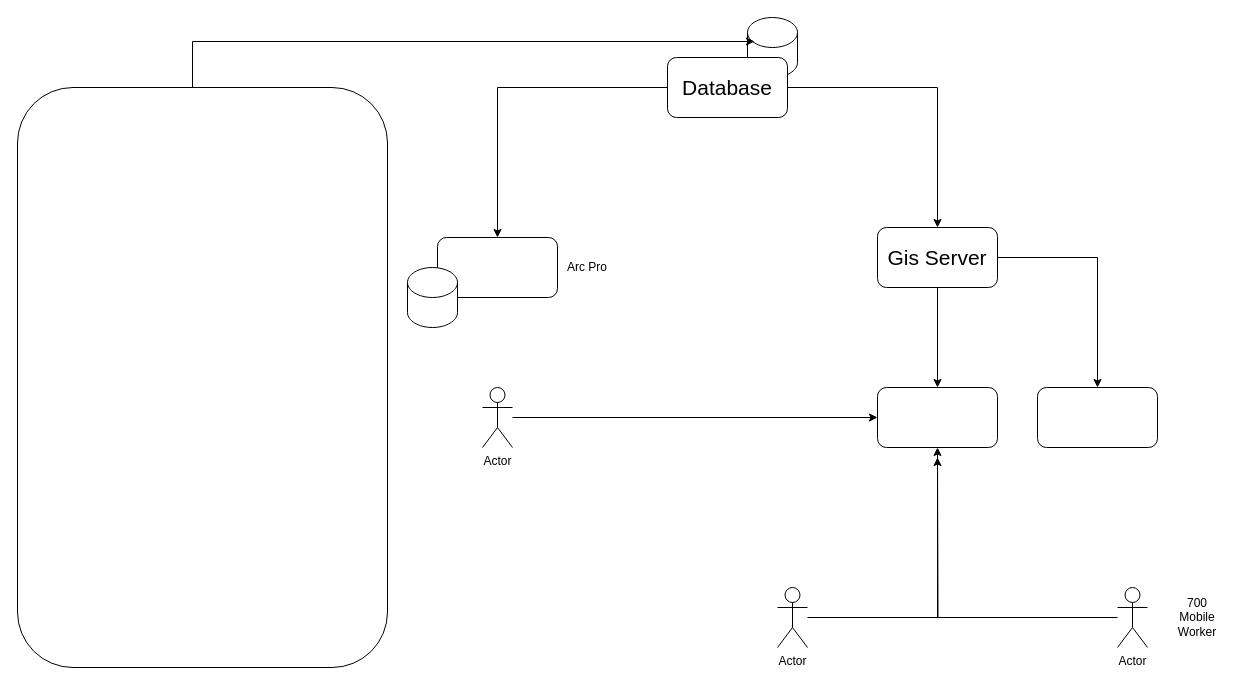
This 1245x686 diagram has some shape labels left out. Here are the shapes that lost their labels. From the top down, the box of each, then its label:
(436, 236, 558, 298): Gis User
(876, 386, 998, 448): Portal
(1036, 386, 1158, 448): Web adapter
